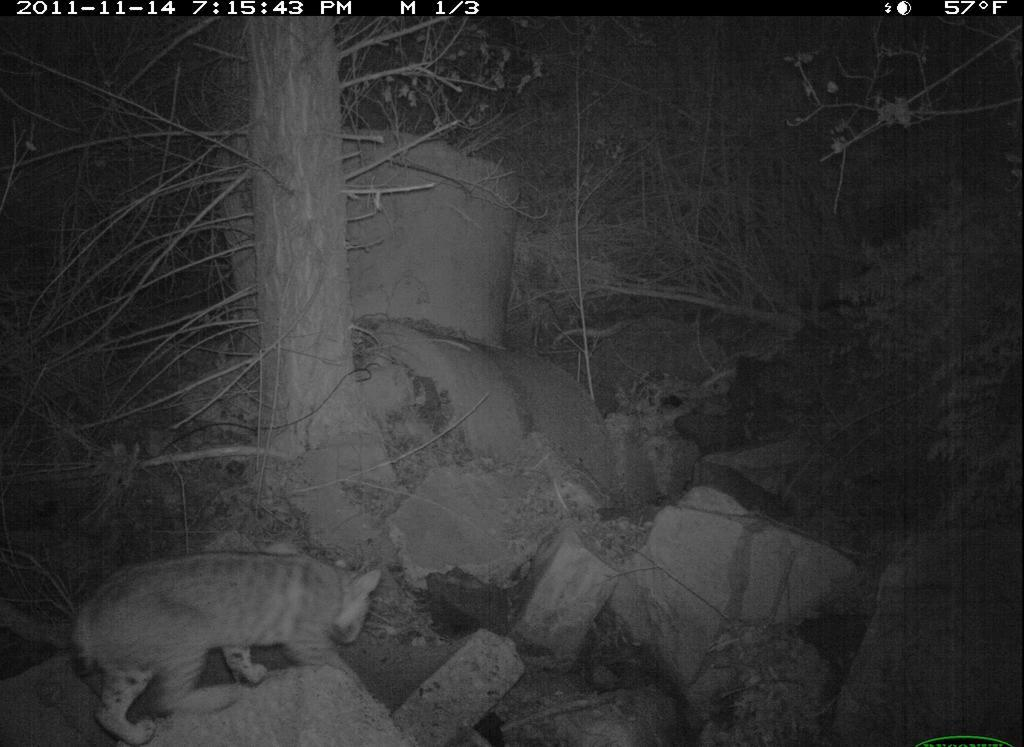bobcat: (71, 543, 388, 739)
